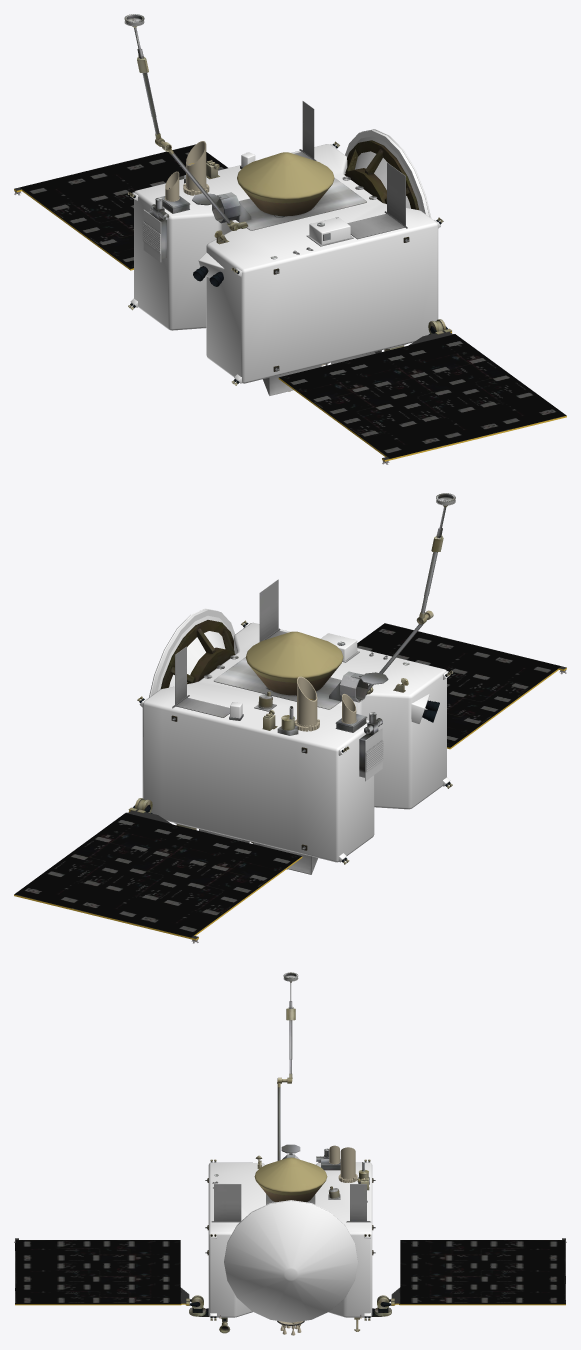
The model's file is osiris-rex.glb.
The picture shows the model from 3 angles, top to bottom: view 1: azimuth 30°, elevation 25°; view 2: azimuth 150°, elevation 25°; view 3: azimuth 270°, elevation 25°; orthographic projection. The views are drawn at different scales.
Parts seen in each view (by area): view 1: Cube.000 (×5), dunno, HGA_frame, Cylinder.002, Ovirs, polycam_big, instrument4, Main Layer.000, polycam_small, HGA.001; view 2: Cube.000 (×5), dunno, HGA_frame, Cylinder.002, Ovirs, polycam_big, HGA.001, Main Layer.000, polycam_small; view 3: Cube.000 (×3), HGA.001, dunno, polycam_big.
Part boxes in pixels (<box>): Cube.000 (×5): <box>14,28,566,461</box>; dunno: <box>263,101,407,395</box>; HGA_frame: <box>344,140,418,209</box>; Cylinder.002: <box>345,129,430,217</box>; Ovirs: <box>142,197,169,262</box>; polycam_big: <box>183,141,209,195</box>; instrument4: <box>306,217,353,246</box>; Main Layer.000: <box>212,192,251,223</box>; polycam_small: <box>160,171,190,213</box>; HGA.001: <box>355,135,431,217</box>; Cube.000 (×5): <box>14,507,566,940</box>; dunno: <box>172,579,317,874</box>; HGA_frame: <box>160,620,235,688</box>; Cylinder.002: <box>149,608,235,696</box>; Ovirs: <box>359,712,383,781</box>; polycam_big: <box>294,676,319,731</box>; HGA.001: <box>149,615,225,697</box>; Main Layer.000: <box>329,671,368,702</box>; polycam_small: <box>335,694,367,732</box>; Cube.000 (×3): <box>15,1157,565,1317</box>; HGA.001: <box>224,1201,357,1322</box>; dunno: <box>211,1184,370,1318</box>; polycam_big: <box>338,1147,357,1182</box>.
Size of what is drawn, in the model's own units: 2.88 by 3.72 by 6.2.
9 materials, 2 textured.
